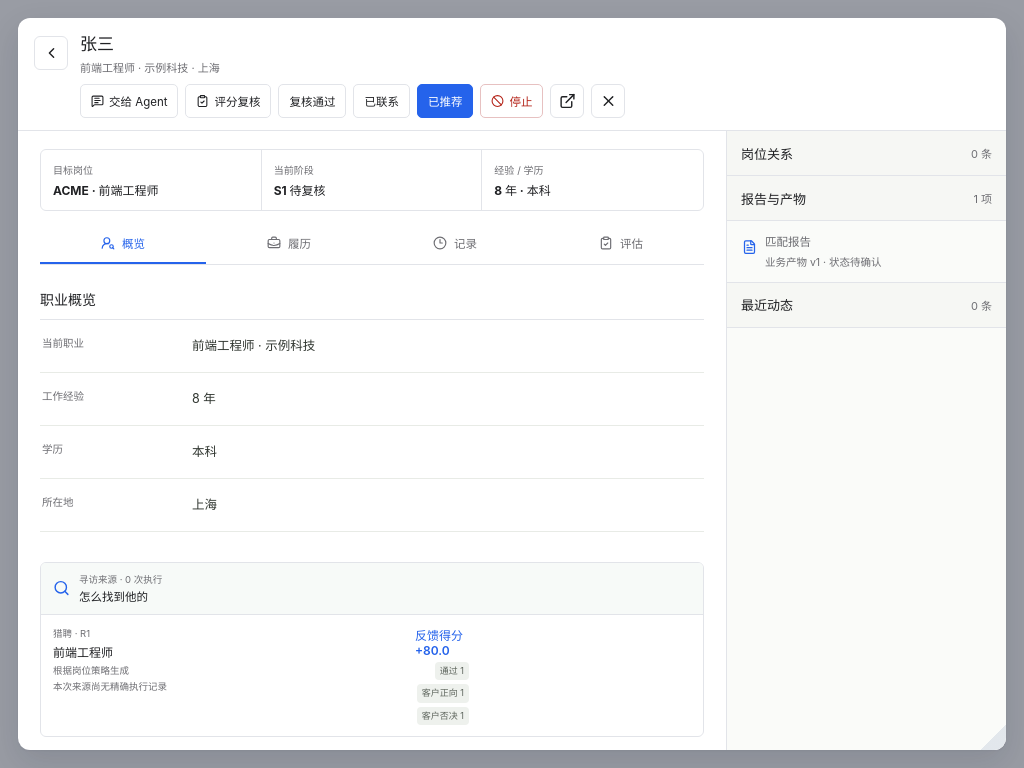
Test: 顾问确认推荐（recommendation-decision） › 推荐对话框展示评估依据与风险提示（来自既有候选人字段）
Step 1. Click the button "已推荐" → point(445, 101), box x1=417 y1=84 x2=474 y2=118
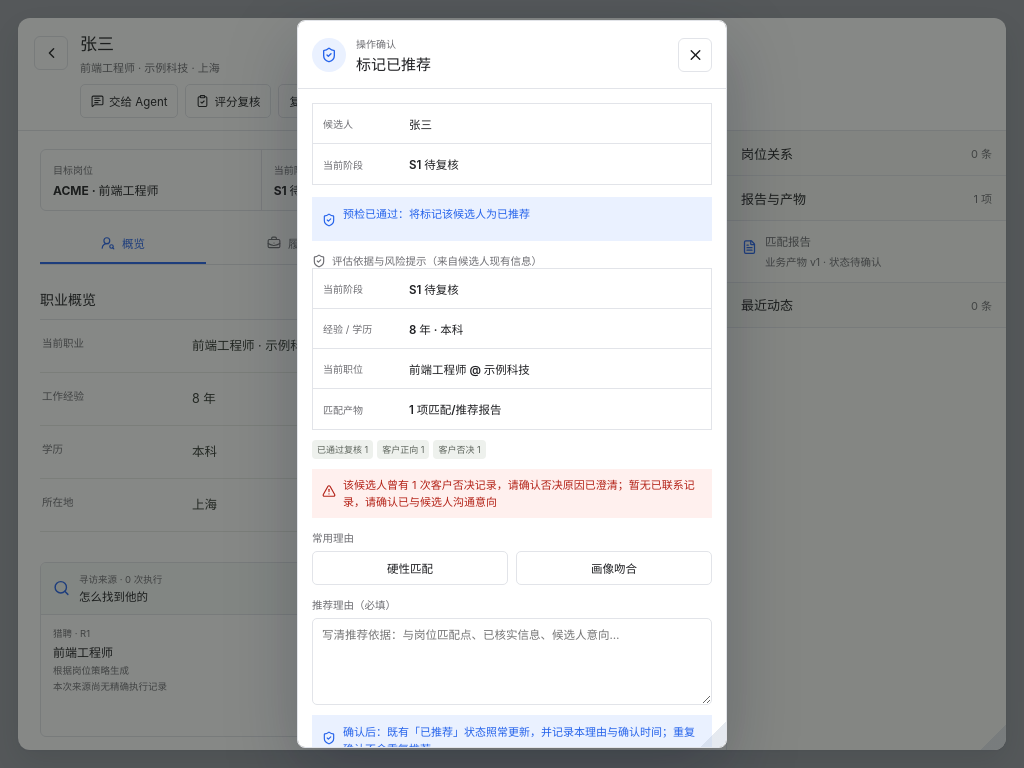
Expected: the text "8 年 · 本科" is shown, x1=409 y1=322 x2=463 y2=336
Expected: the text "前端工程师 @ 示例科技" is shown, x1=409 y1=362 x2=530 y2=376
Expected: the text "1 项匹配/推荐报告" is shown, x1=409 y1=403 x2=502 y2=417
